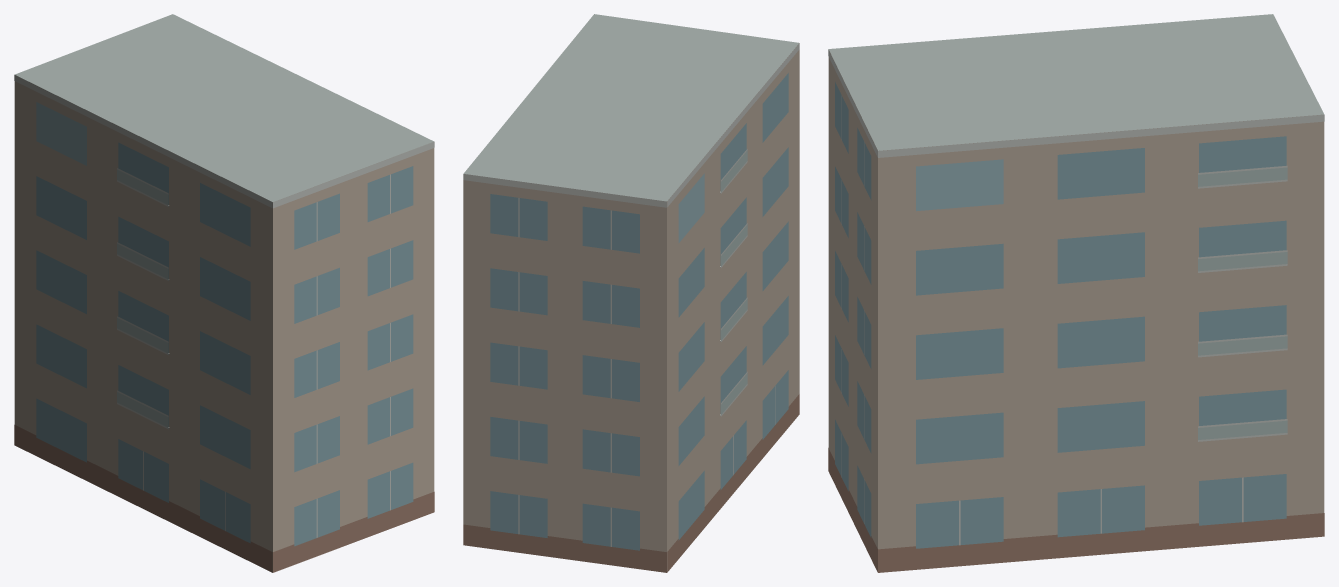
The model's file is survey-upis-32876921.glb.
3 renders of one model, left to right at view 1: azimuth 30°, elevation 25°; view 2: azimuth 150°, elevation 25°; view 3: azimuth 270°, elevation 25°, orthographic. The views are drawn at different scales.
Parts seen in each view (by area): view 1: survey-upis-32876921.tmp; view 2: survey-upis-32876921.tmp; view 3: survey-upis-32876921.tmp.
Part boxes in pixels (left/top/right/bottom): survey-upis-32876921.tmp: left=14, top=14, right=434, bottom=572; survey-upis-32876921.tmp: left=463, top=14, right=799, bottom=572; survey-upis-32876921.tmp: left=828, top=14, right=1324, bottom=572.
Bounding box in the file's own units: 10.02 × 14.4 × 15.35.
